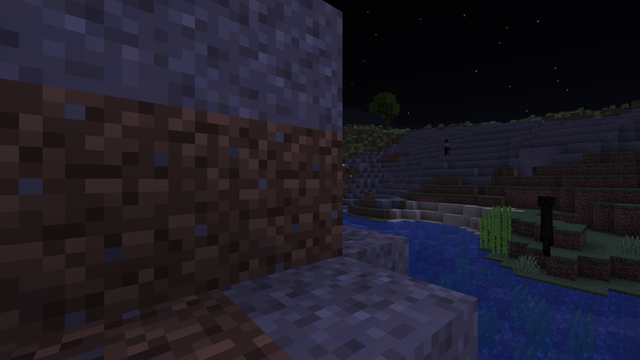endermens: (537, 194, 555, 256)
sorcieres: (443, 142, 449, 156)
